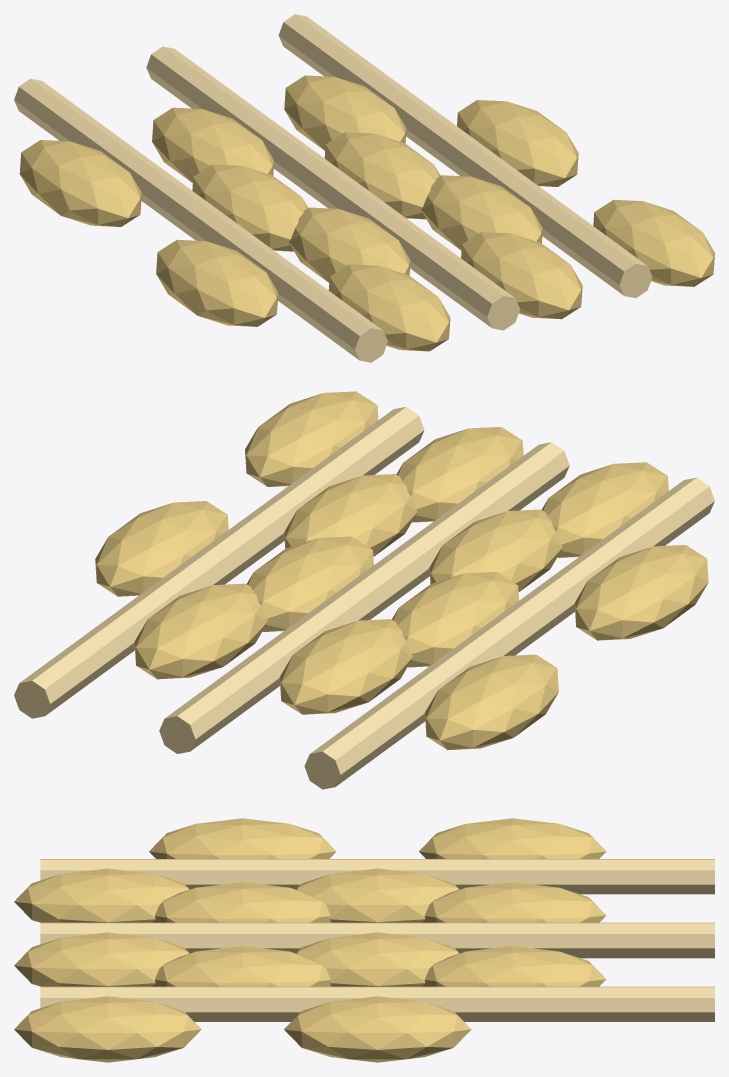
The model's file is grain-4176.glb.
3 views of the same model, one above another, from view 1: azimuth 30°, elevation 25°; view 2: azimuth 150°, elevation 25°; view 3: azimuth 270°, elevation 25° (orthographic). The views are drawn at different scales.
Visible parts, largest first — view 1: stem2, stem1, stem0, kernel0_2, kernel0_0, kernel0_3, kernel1_3, kernel2_3, kernel2_1, kernel2_0, kernel1_0, kernel0_1 (+3 smaller); view 2: stem1, stem2, stem0, kernel0_2, kernel0_0, kernel1_0, kernel2_0, kernel2_1, kernel2_3, kernel1_1, kernel0_3, kernel1_3 (+3 smaller); view 3: stem2, stem1, stem0, kernel2_1, kernel2_3, kernel1_3, kernel0_3, kernel1_1, kernel0_1, kernel0_0, kernel0_2, kernel2_0 (+3 smaller).
Boxes of the visible parts, x1,y1,x2,y2 form: stem2: [278, 14, 652, 298]; stem1: [146, 46, 520, 330]; stem0: [14, 78, 387, 362]; kernel0_2: [156, 239, 278, 326]; kernel0_0: [19, 140, 141, 226]; kernel0_3: [328, 264, 450, 351]; kernel1_3: [461, 232, 582, 319]; kernel2_3: [593, 199, 714, 286]; kernel2_1: [457, 100, 578, 186]; kernel2_0: [284, 75, 406, 150]; kernel1_0: [152, 107, 274, 182]; kernel0_1: [192, 164, 307, 251]; stem1: [159, 442, 569, 753]; stem2: [14, 406, 424, 718]; stem0: [304, 477, 714, 789]; kernel0_2: [574, 545, 708, 640]; kernel0_0: [425, 654, 558, 749]; kernel1_0: [279, 619, 412, 714]; kernel2_0: [134, 583, 267, 679]; kernel2_1: [95, 501, 228, 596]; kernel2_3: [245, 391, 378, 486]; kernel1_1: [247, 536, 373, 631]; kernel0_3: [541, 462, 668, 557]; kernel1_3: [396, 427, 523, 522]; stem2: [40, 986, 714, 1021]; stem1: [40, 922, 714, 958]; stem0: [40, 859, 714, 894]; kernel2_1: [284, 996, 471, 1062]; kernel2_3: [14, 996, 201, 1062]; kernel1_3: [14, 932, 189, 986]; kernel0_3: [14, 868, 189, 922]; kernel1_1: [296, 932, 459, 986]; kernel0_1: [296, 868, 459, 922]; kernel0_0: [419, 818, 606, 858]; kernel0_2: [149, 818, 336, 858]; kernel2_0: [424, 946, 606, 986].
Bounding box in the file's own units: 2 × 0.2245 × 2.7.
